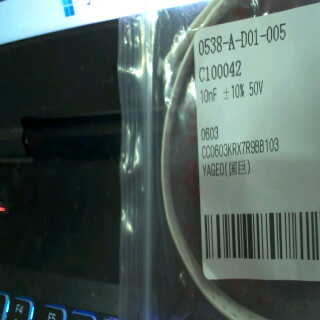10nF: (197, 84, 219, 108)
